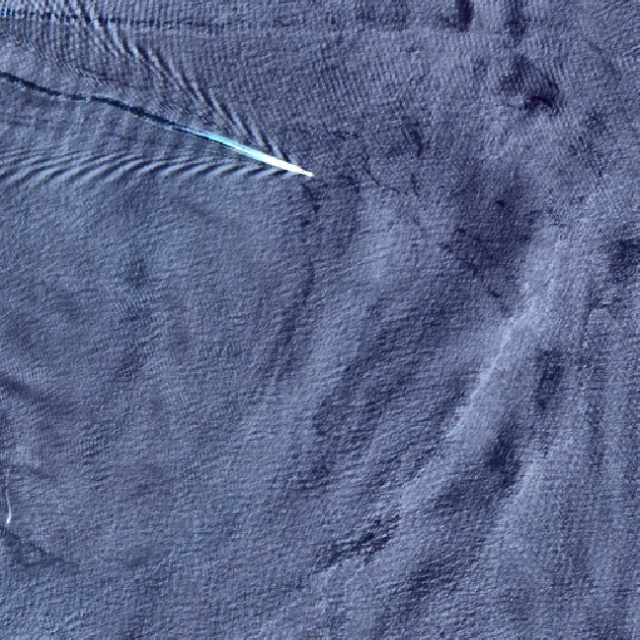wake: (32, 9, 346, 247)
